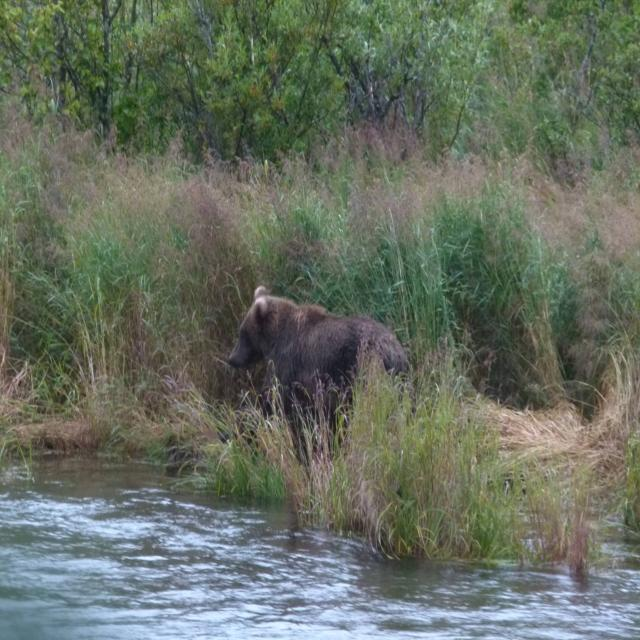bear face: (227, 288, 409, 421)
